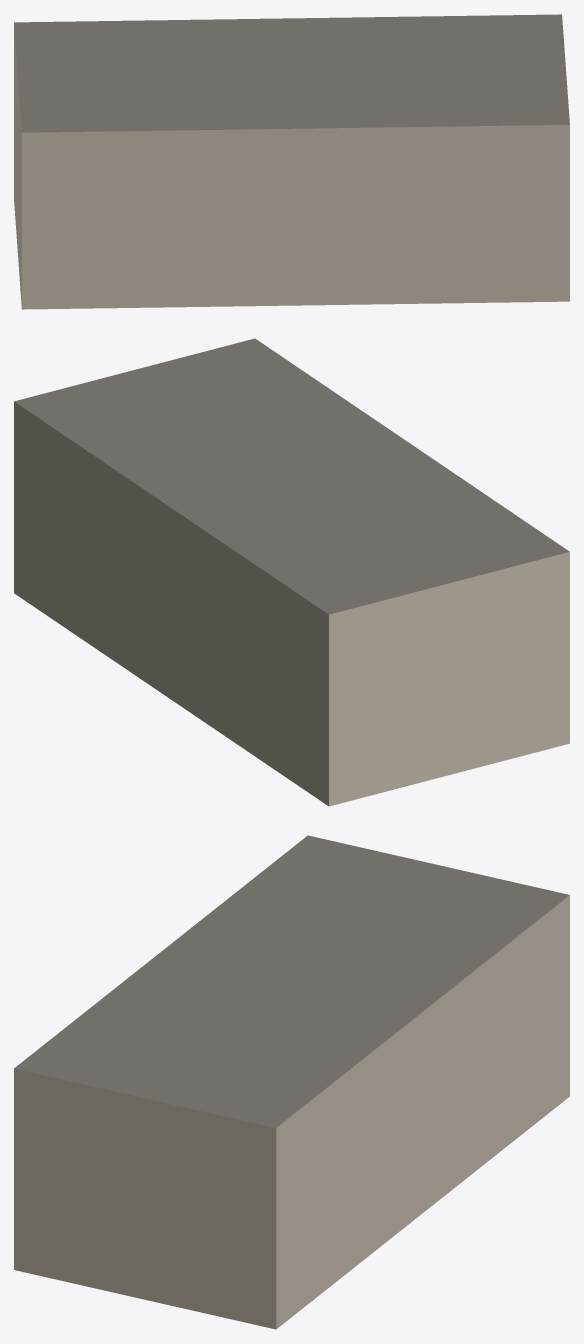
3 renders of one model, top to bottom at view 1: azimuth 30°, elevation 25°; view 2: azimuth 150°, elevation 25°; view 3: azimuth 270°, elevation 25°, orthographic. The views are drawn at different scales.
Visible parts, largest first — view 1: HP-w369549487; view 2: HP-w369549487; view 3: HP-w369549487.
Part boxes in pixels (x1,y1,x2,y2): HP-w369549487: (14,14,569,309); HP-w369549487: (14,338,569,806); HP-w369549487: (14,835,569,1329).
Bounding box in the file's own units: 56.08 × 18 × 45.01.
